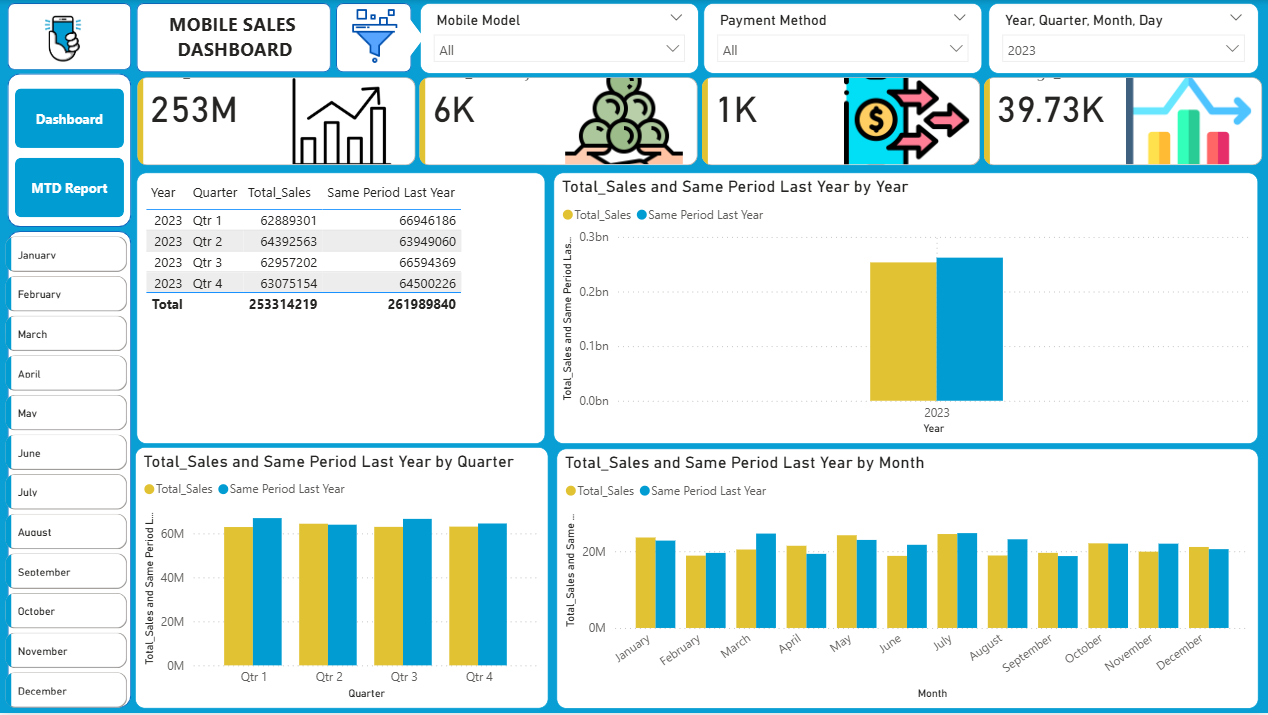

This screenshot's page, from the dashboard's own definition file:
{"tool":"powerbi","page":{"name":"Same Period Last Year","canvas":[1280,720],"ordinal":2},"visuals":[{"type":"shape","box":[7.5,3.8,125,67.5],"z":0},{"type":"image","box":[23.8,3.8,78.8,71.2],"z":1000},{"type":"shape","box":[7.5,73.8,125,155],"z":2000},{"type":"cardVisual","fields":{"Data":["Sales_Data.Total_Sales","Sales_Data.Total_Quantity","Sales_Data.Transactions","Sales_Data.Average_Price"]},"box":[133.3,72.7,1146.3,99.9],"z":3000},{"type":"slicer","fields":{"Values":["Sales_Data.Mobile Model"]},"box":[423.8,3.8,281.2,71.2],"z":4000},{"type":"slicer","fields":{"Values":["Sales_Data.Payment Method"]},"box":[710,3.8,281.2,71.2],"z":5000},{"type":"slicer","fields":{"Values":["Custom_Calendar.Date.Variation.Date Hierarchy.Year","Custom_Calendar.Date.Variation.Date Hierarchy.Quarter","Custom_Calendar.Date.Variation.Date Hierarchy.Month","Custom_Calendar.Date.Variation.Date Hierarchy.Day"]},"box":[997.5,3.8,272.5,71.2],"z":6000},{"type":"shape","box":[338.8,3.8,76.2,70],"z":7000},{"type":"image","box":[337.5,3.8,81.2,66.2],"z":8000},{"type":"shape","box":[397.5,17.5,30,40],"z":9000},{"type":"shape","box":[137.5,3.8,196.2,70],"z":10000},{"type":"textbox","box":[156.2,6.2,162.5,63.8],"z":11000},{"type":"shape","box":[7.5,232.5,125,481.2],"z":12000},{"type":"advancedSlicerVisual","fields":{"Values":["Custom_Calendar.Date.Variation.Date Hierarchy.Month"]},"box":[0,233.2,133.3,486.1],"z":13000},{"type":"tableEx","fields":{"Values":["Custom_Calendar.Date.Variation.Date Hierarchy.Year","Custom_Calendar.Date.Variation.Date Hierarchy.Quarter","Sales_Data.Total_Sales","Sales_Data.Same Period Last Year"]},"box":[137.5,173.8,412.5,273.8],"z":14000},{"type":"clusteredColumnChart","fields":{"Category":["Custom_Calendar.Date.Variation.Date Hierarchy.Year","Custom_Calendar.Date.Variation.Date Hierarchy.Quarter"],"Y":["Sales_Data.Total_Sales","Sales_Data.Same Period Last Year"]},"box":[558.8,173.8,711.2,273.8],"z":15000},{"type":"clusteredColumnChart","fields":{"Y":["Sales_Data.Total_Sales","Sales_Data.Same Period Last Year"],"Category":["Custom_Calendar.Date.Variation.Date Hierarchy.Year","Custom_Calendar.Date.Variation.Date Hierarchy.Quarter","Custom_Calendar.Date.Variation.Date Hierarchy.Month","Custom_Calendar.Date.Variation.Date Hierarchy.Day"]},"box":[561.2,452.5,708.8,262.5],"z":16000},{"type":"clusteredColumnChart","fields":{"Category":["Custom_Calendar.Date.Variation.Date Hierarchy.Year","Custom_Calendar.Date.Variation.Date Hierarchy.Quarter"],"Y":["Sales_Data.Total_Sales","Sales_Data.Same Period Last Year"]},"box":[136.2,451.2,417.5,263.8],"z":17000},{"type":"pageNavigator","box":[15,88.8,110,130],"z":18000}]}

Visuals, with their boxes in screenshot pixels (x1, y1, x2, y2), scaled from the page's 1280x720 canvas onto the 1268x715 screenshot:
shape: Rect(7, 4, 131, 71)
image: Rect(24, 4, 102, 74)
shape: Rect(7, 73, 131, 227)
cardVisual - Sales_Data.Total_Sales x Sales_Data.Total_Quantity: Rect(132, 72, 1267, 171)
slicer - Sales_Data.Mobile Model: Rect(420, 4, 698, 74)
slicer - Sales_Data.Payment Method: Rect(703, 4, 982, 74)
slicer - Custom_Calendar.Date.Variation.Date Hierarchy.Year x Custom_Calendar.Date.Variation.Date Hierarchy.Quarter: Rect(988, 4, 1258, 74)
shape: Rect(336, 4, 411, 73)
image: Rect(334, 4, 415, 70)
shape: Rect(394, 17, 423, 57)
shape: Rect(136, 4, 331, 73)
textbox: Rect(155, 6, 316, 70)
shape: Rect(7, 231, 131, 709)
advancedSlicerVisual - Custom_Calendar.Date.Variation.Date Hierarchy.Month: Rect(0, 232, 132, 714)
tableEx - Custom_Calendar.Date.Variation.Date Hierarchy.Year x Custom_Calendar.Date.Variation.Date Hierarchy.Quarter: Rect(136, 173, 545, 444)
clusteredColumnChart - Custom_Calendar.Date.Variation.Date Hierarchy.Year x Custom_Calendar.Date.Variation.Date Hierarchy.Quarter: Rect(554, 173, 1258, 444)
clusteredColumnChart - Sales_Data.Total_Sales x Sales_Data.Same Period Last Year: Rect(556, 449, 1258, 710)
clusteredColumnChart - Custom_Calendar.Date.Variation.Date Hierarchy.Year x Custom_Calendar.Date.Variation.Date Hierarchy.Quarter: Rect(135, 448, 549, 710)
pageNavigator: Rect(15, 88, 124, 217)
